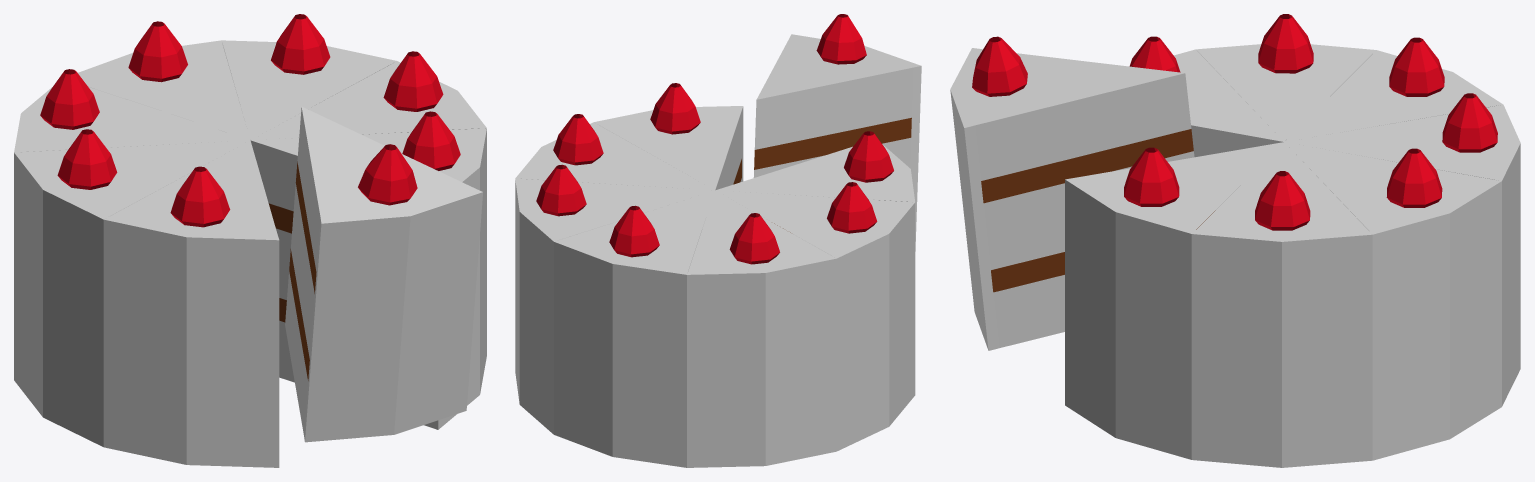
The model's file is cake.glb.
3 renders of one model, left to right at view 1: azimuth 30°, elevation 25°; view 2: azimuth 150°, elevation 25°; view 3: azimuth 270°, elevation 25°, orthographic. The views are drawn at different scales.
Parts seen in each view (by area): view 1: Cake; view 2: Cake; view 3: Cake.
Part boxes in pixels (box(x1,y1,x2,y2)): Cake: box(14, 14, 486, 467); Cake: box(515, 14, 921, 467); Cake: box(950, 14, 1520, 467).
Size of the model in its own units: 5.35 by 4.08 by 6.45.
